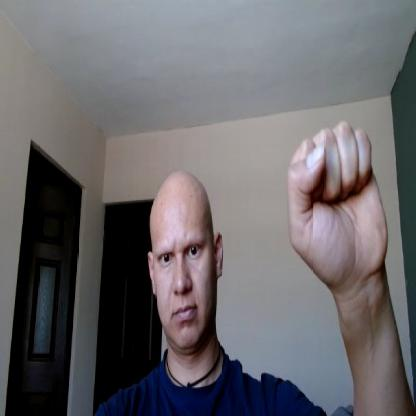S: (287, 119, 390, 277)
